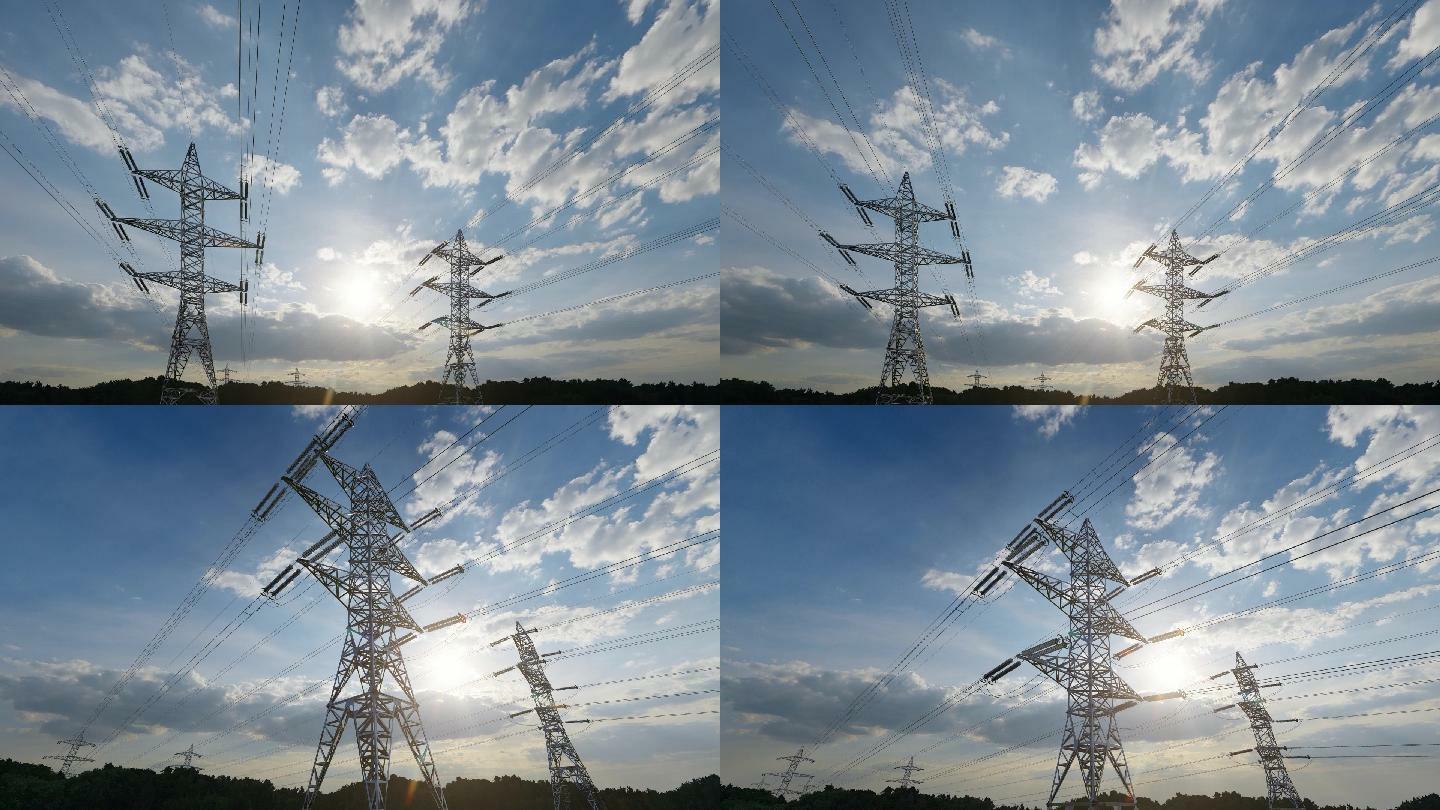power_tower: (978, 474, 1160, 793), (287, 437, 446, 801), (83, 143, 277, 400), (827, 163, 981, 412), (489, 610, 621, 801), (1201, 643, 1318, 802), (1120, 220, 1229, 390), (419, 214, 506, 396), (758, 738, 829, 810), (42, 716, 109, 772), (882, 742, 933, 794), (164, 739, 208, 774)
